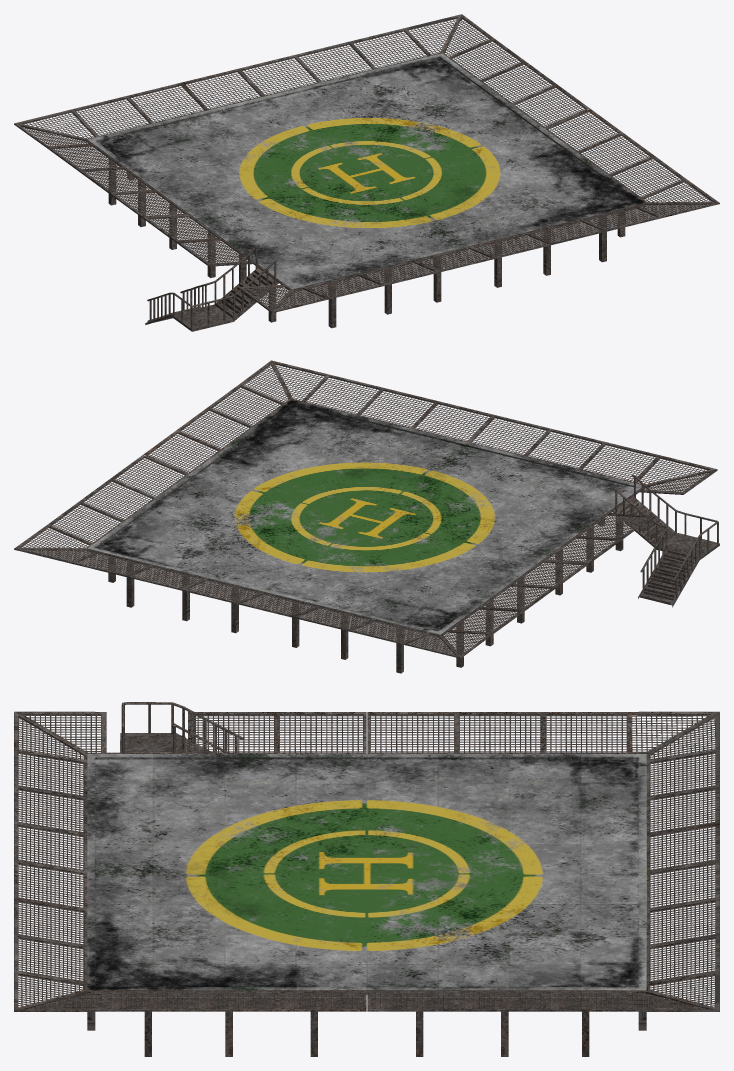
File: mainbase.glb
3 views of the same model, one above another, from view 1: azimuth 30°, elevation 25°; view 2: azimuth 150°, elevation 25°; view 3: azimuth 270°, elevation 25° (orthographic). The views are drawn at different scales.
Parts seen in each view (by area): view 1: Helipad; view 2: Helipad; view 3: Helipad.
Part boxes in pixels (box(x1,y1,x2,y2)): Helipad: box(14, 14, 719, 331); Helipad: box(14, 360, 719, 673); Helipad: box(14, 702, 719, 1056).
Bounding box in the file's own units: 24.61 × 3.79 × 22.49.
3 materials, 3 textured.
